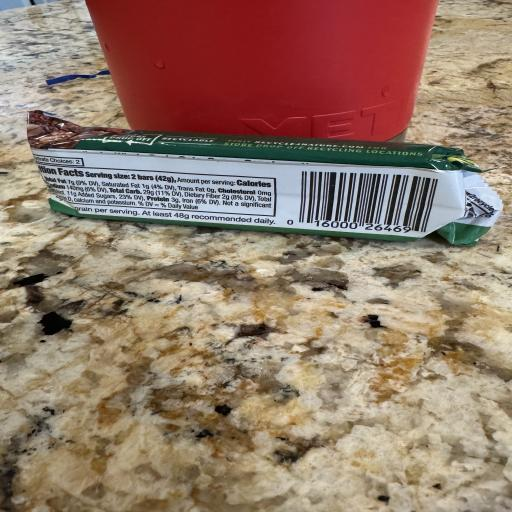granola: (28, 111, 502, 245)
